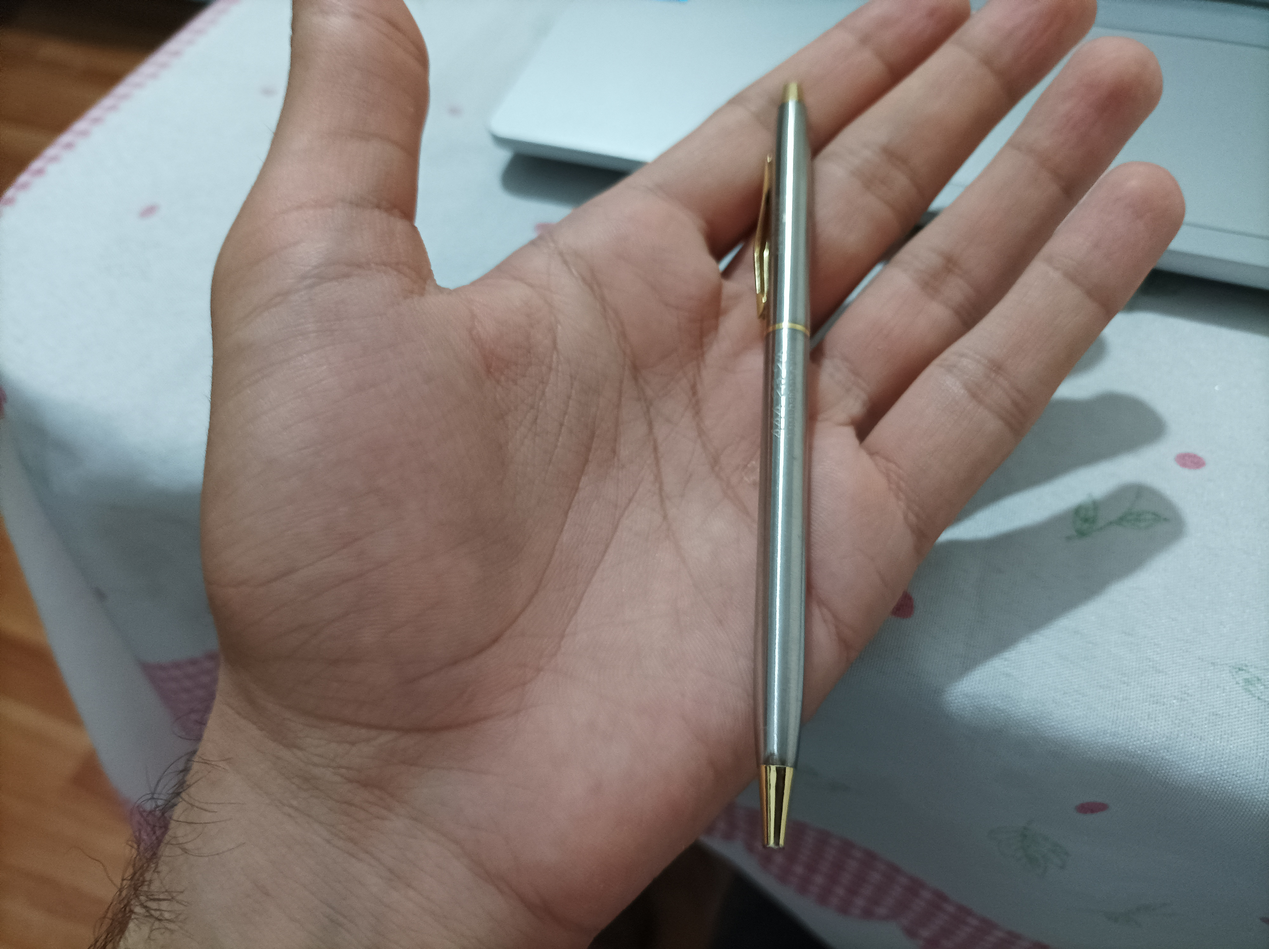plastic: (759, 79, 813, 866)
